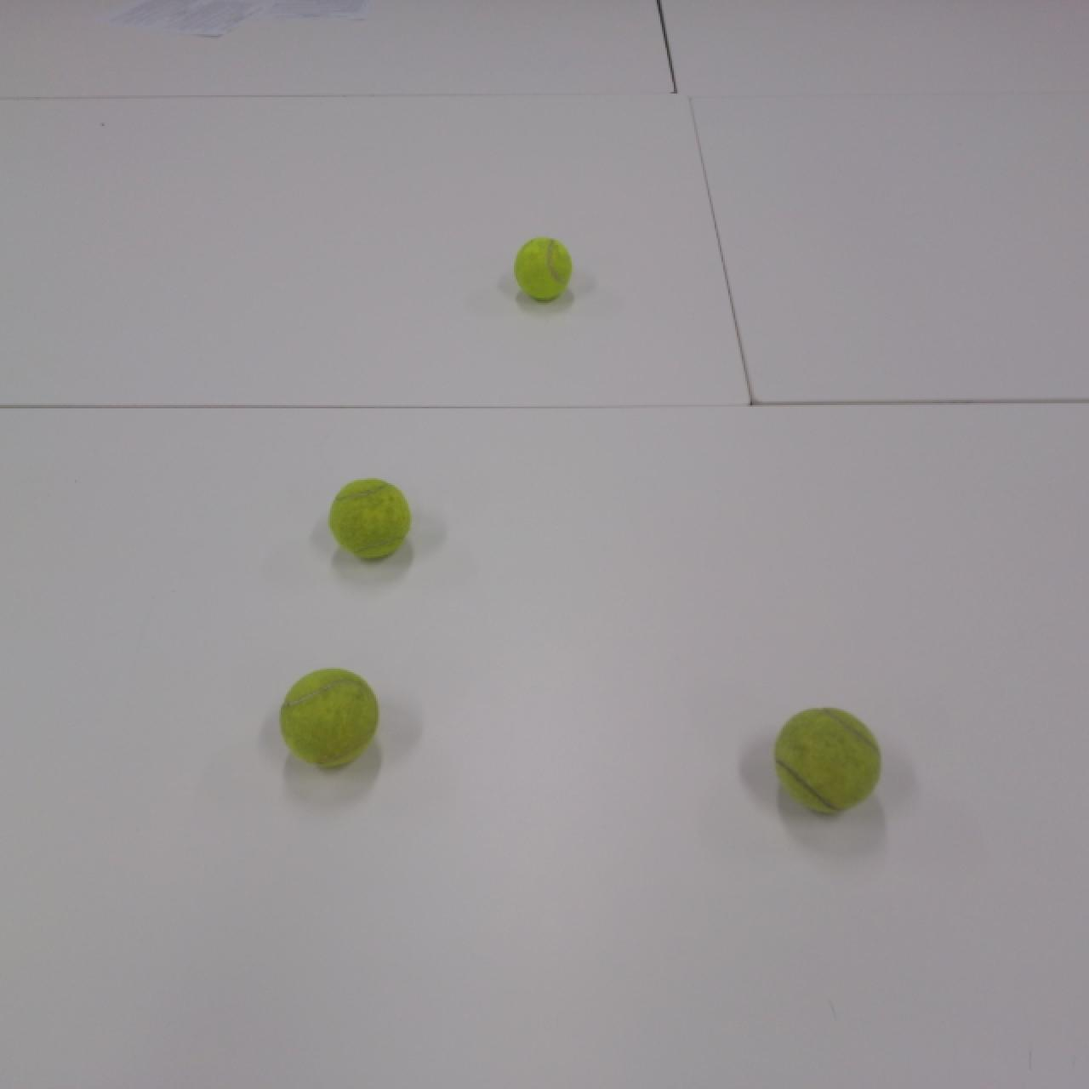tennis-ball: (773, 704, 882, 816), (278, 666, 380, 769), (329, 477, 410, 561), (513, 236, 573, 303)
